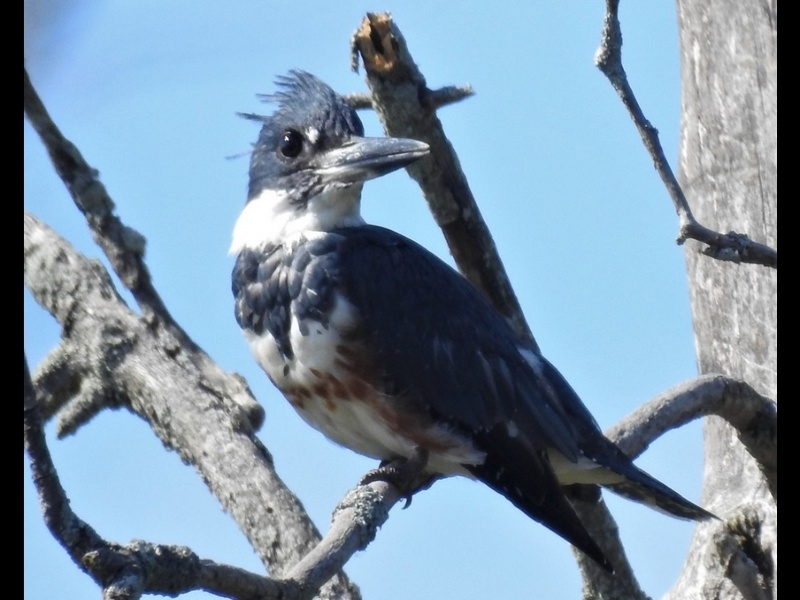kingfisher: (224, 65, 717, 540)
